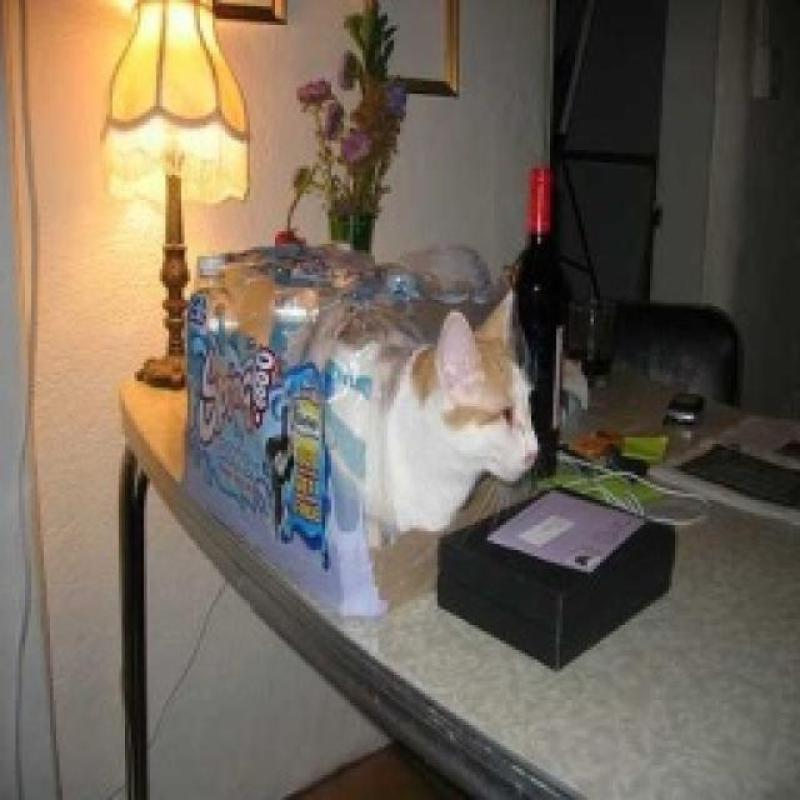botella: (187, 254, 228, 302)
